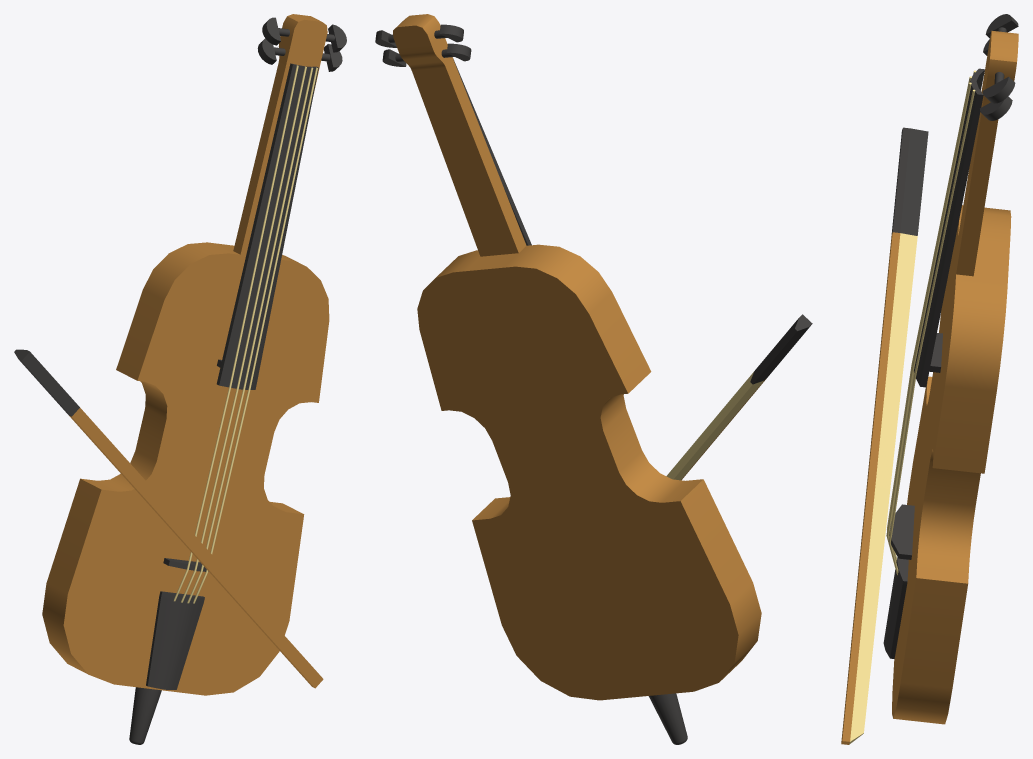
The model's file is SM_Cello.fbx.
3 renders of one model, left to right at view 1: azimuth 30°, elevation 25°; view 2: azimuth 150°, elevation 25°; view 3: azimuth 270°, elevation 25°, orthographic. The views are drawn at different scales.
Visible parts, largest first — view 1: Violin2_0003:ViolinBody, Violin2_0003:Neck, Violin2_0003:Bow, Violin2_0003:Foot, Violin2_0003:Sting1, Violin2_0003:String3, Violin2_0003:Sting2, Violin2_0003:String2, SHOES; view 2: Violin2_0003:ViolinBody, Violin2_0003:Bow, SHOES; view 3: Violin2_0003:ViolinBody, Violin2_0003:Bow, Violin2_0003:Neck, Violin2_0003:Sting1, Violin2_0003:String2, Violin2_0003:Foot, Violin2_0003:Ankle, Violin2_0003:Sting2, Violin2_0003:pCylinder6, Violin2_0003:pCylinder1, Violin2_0003:pCylinder4, Violin2_0003:Shoulder.
Part boxes in pixels (bbox=[...]): Violin2_0003:ViolinBody: bbox=[42, 14, 329, 695]; Violin2_0003:Neck: bbox=[216, 63, 318, 389]; Violin2_0003:Bow: bbox=[14, 349, 323, 688]; Violin2_0003:Foot: bbox=[146, 591, 204, 689]; Violin2_0003:Sting1: bbox=[187, 67, 313, 603]; Violin2_0003:String3: bbox=[174, 65, 298, 601]; Violin2_0003:Sting2: bbox=[181, 66, 306, 602]; Violin2_0003:String2: bbox=[193, 67, 317, 603]; SHOES: bbox=[129, 687, 161, 744]; Violin2_0003:ViolinBody: bbox=[393, 14, 761, 700]; Violin2_0003:Bow: bbox=[666, 314, 812, 480]; SHOES: bbox=[648, 693, 687, 744]; Violin2_0003:ViolinBody: bbox=[892, 30, 1018, 724]; Violin2_0003:Bow: bbox=[841, 127, 928, 744]; Violin2_0003:Neck: bbox=[914, 68, 984, 387]; Violin2_0003:Sting1: bbox=[886, 82, 971, 566]; Violin2_0003:String2: bbox=[888, 89, 975, 575]; Violin2_0003:Foot: bbox=[883, 557, 908, 658]; Violin2_0003:Ankle: bbox=[889, 504, 914, 559]; Violin2_0003:Sting2: bbox=[887, 76, 971, 561]; Violin2_0003:pCylinder6: bbox=[982, 76, 1015, 103]; Violin2_0003:pCylinder1: bbox=[980, 96, 1012, 120]; Violin2_0003:pCylinder4: bbox=[985, 14, 1018, 38]; Violin2_0003:Shoulder: bbox=[929, 333, 942, 372].
Bounding box in the file's own units: 21.65 × 37.19 × 7.55.
